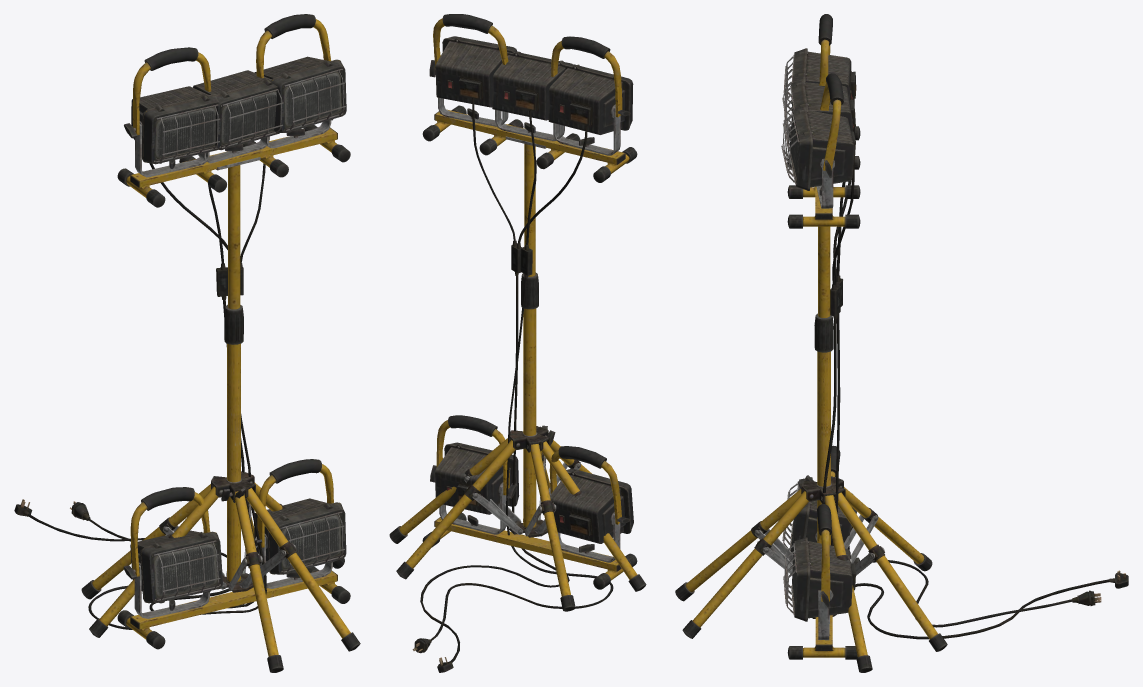
Rendered from flood_lights.glb.
3 views of the same model, side by side, from view 1: azimuth 30°, elevation 25°; view 2: azimuth 150°, elevation 25°; view 3: azimuth 270°, elevation 25° (orthographic). The views are drawn at different scales.
Parts seen in each view (by area): view 1: tripod_double_LOD0, floor_double_LOD0, tripod_single_LOD0; view 2: tripod_double_LOD0, tripod_single_LOD0, floor_double_LOD0; view 3: tripod_double_LOD0, tripod_single_LOD0, floor_double_LOD0.
Part boxes in pixels (bbox=[...]): tripod_double_LOD0: bbox=[14, 14, 360, 651]; floor_double_LOD0: bbox=[117, 459, 350, 649]; tripod_single_LOD0: bbox=[70, 70, 344, 672]; tripod_double_LOD0: bbox=[396, 14, 646, 672]; tripod_single_LOD0: bbox=[389, 51, 613, 653]; floor_double_LOD0: bbox=[422, 415, 637, 589]; tripod_double_LOD0: bbox=[682, 14, 1128, 651]; tripod_single_LOD0: bbox=[675, 80, 1101, 672]; floor_double_LOD0: bbox=[782, 445, 859, 659].
Size of what is drawn, in the model's own units: 0.8589 by 1.79 by 1.3.
Materials: 2 (2 with a texture image).
